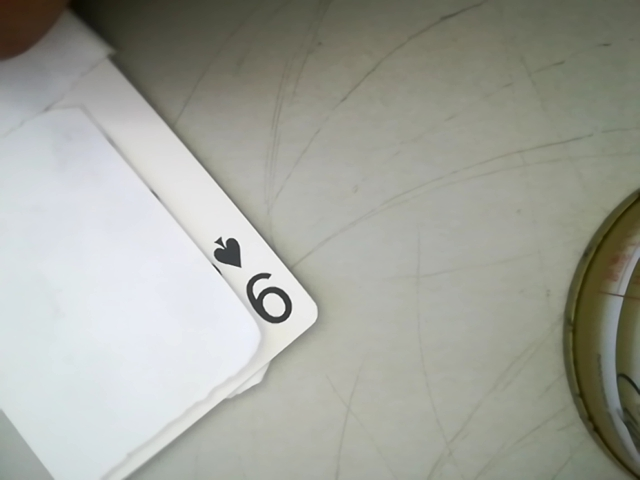ht 9: (207, 219, 297, 341)
